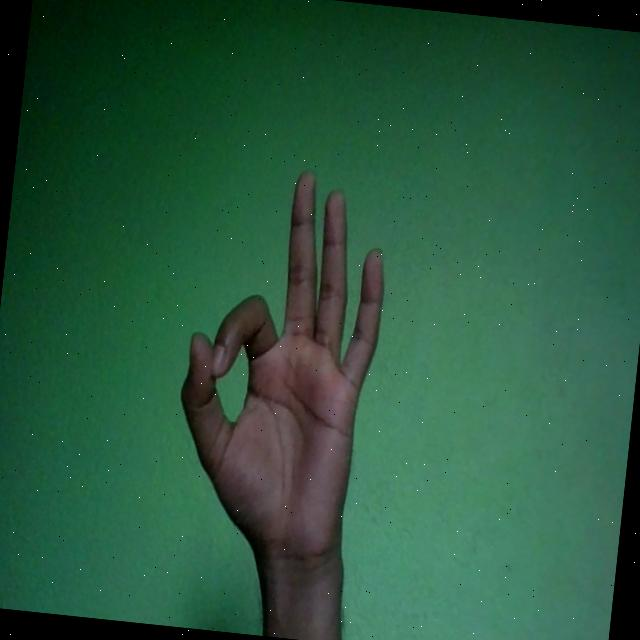Rock On: (163, 158, 394, 578)
